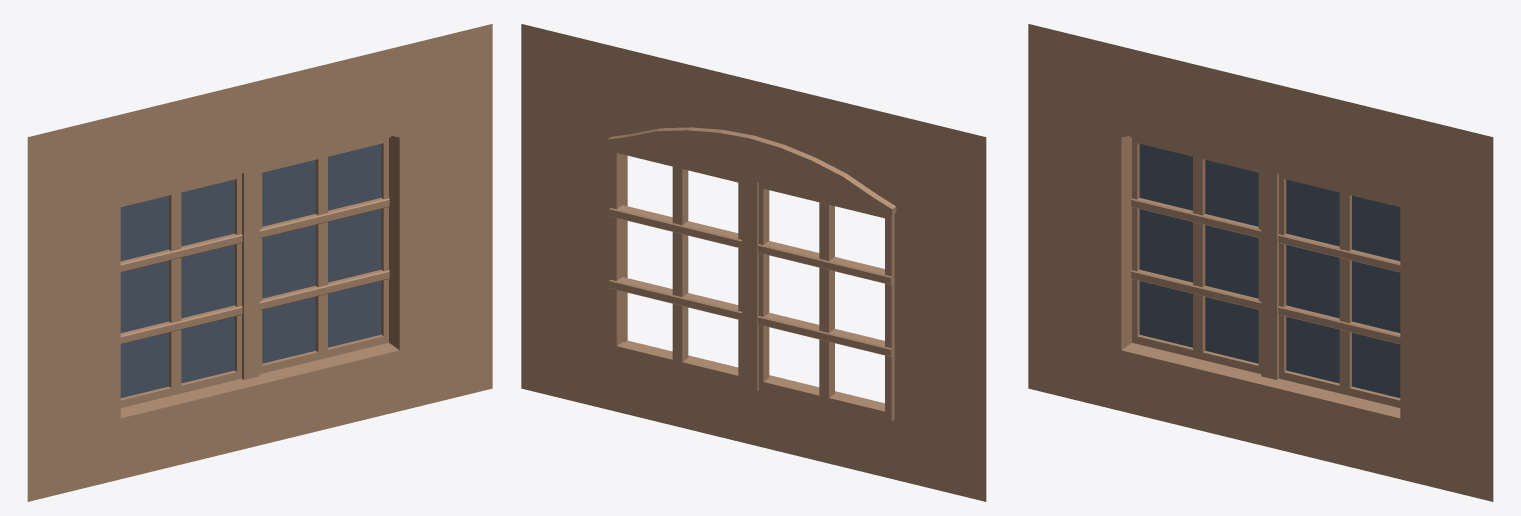
The model's file is env_block_brick_window_curved_double.glb.
The picture shows the model from 3 angles, left to right: view 1: azimuth 30°, elevation 25°; view 2: azimuth 150°, elevation 25°; view 3: azimuth 330°, elevation 25°; orthographic projection.
Parts seen in each view (by area): view 1: part_0, part_1; view 2: part_0; view 3: part_0, part_1.
Part boxes in pixels (x1,y1,x2,y2): part_0: (27, 24, 492, 501); part_1: (120, 144, 381, 397); part_0: (521, 24, 986, 501); part_0: (1028, 24, 1493, 501); part_1: (1139, 144, 1400, 397).
Size of the model in its own units: 4 by 3 by 0.2605.
